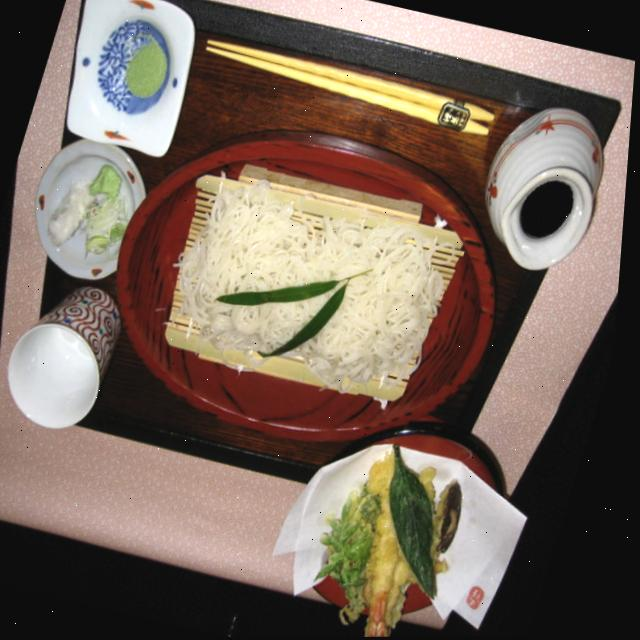面条主食: (143, 136, 487, 428)
